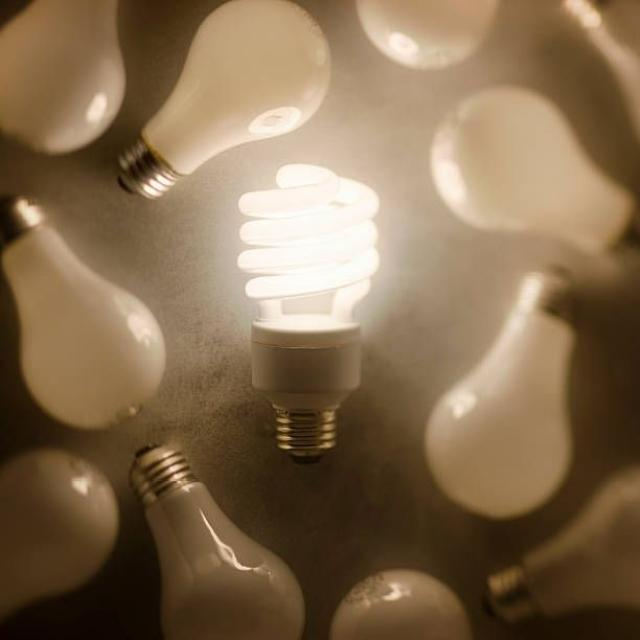electronic: (0, 0, 639, 638), (235, 161, 381, 459), (115, 0, 332, 200), (422, 266, 578, 520), (0, 193, 166, 429), (128, 441, 306, 638), (428, 84, 634, 254), (482, 464, 638, 626), (0, 445, 119, 617), (0, 0, 127, 156), (353, 0, 499, 71), (327, 567, 472, 638)
